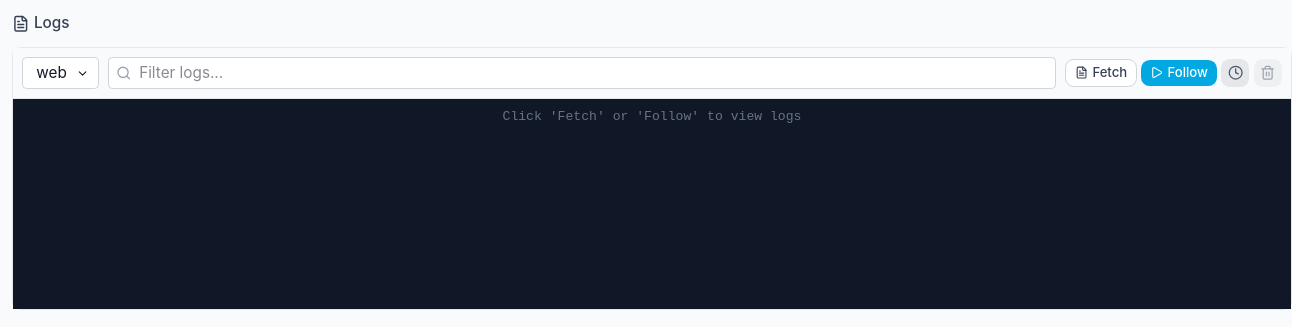
LogsSection › when project is running › should change service when dropdown option is clicked
Open dropdown
Step 1. Click the button "web" → (60, 73), box [22,57,99,89]
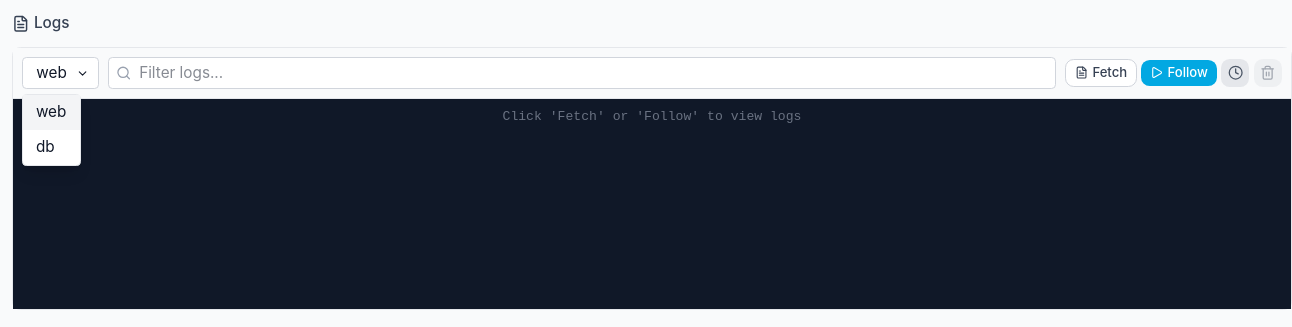
Select db service
Step 2. Click the option "db" → (51, 147), box [23,130,80,165]
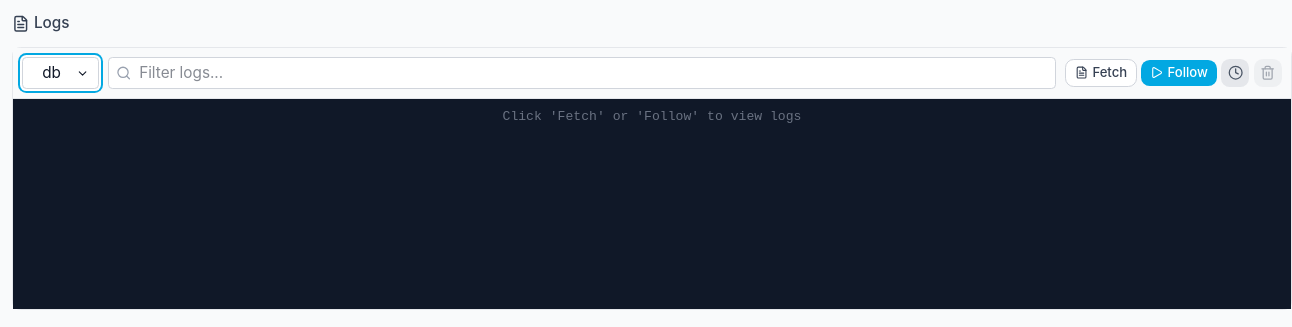
Expected: the text "db" is shown, [42,63,61,82]
